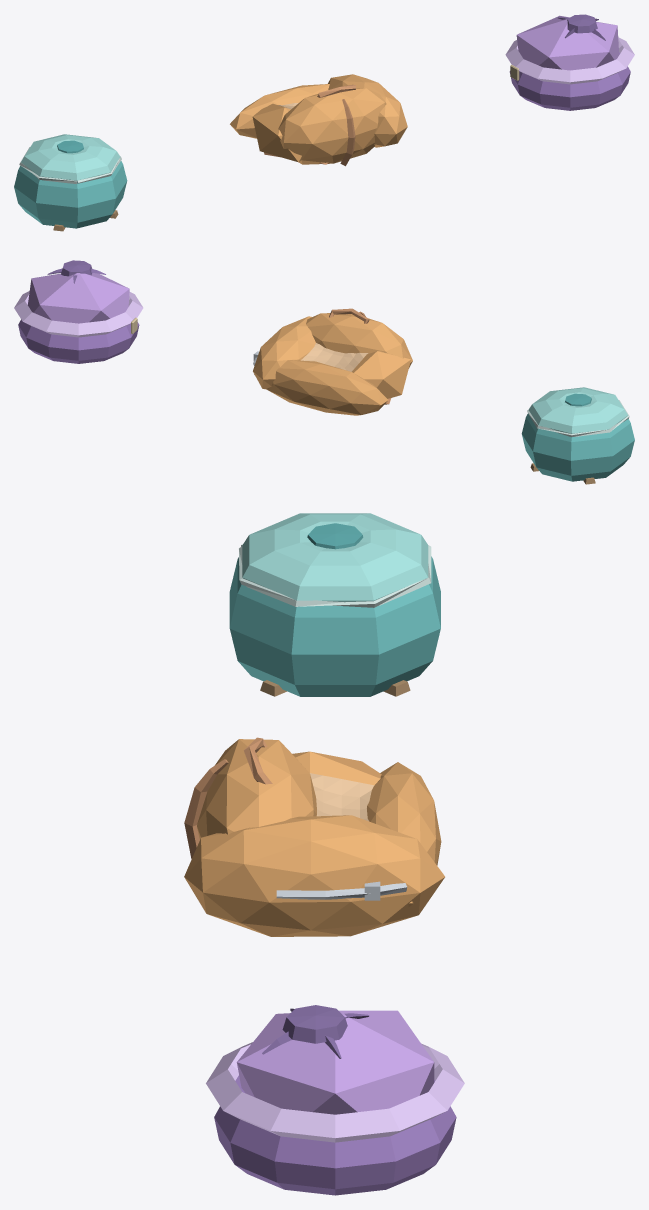
The model's file is BeanBag.fbx.
The picture shows the model from 3 angles, top to bottom: view 1: azimuth 30°, elevation 25°; view 2: azimuth 150°, elevation 25°; view 3: azimuth 270°, elevation 25°; orthographic projection. The views are drawn at different scales.
Parts seen in each view (by area): view 1: BeanBag.B_Body, BeanBag.C_Body, BeanBag.A_Body, BeanBag.C_Dome, BeanBag.A_Base, BeanBag.A_Welt, BeanBag.A_Tuft, BeanBag.B_Base, BeanBag.C_Piping; view 2: BeanBag.B_Body, BeanBag.C_Body, BeanBag.A_Body, BeanBag.C_Dome, BeanBag.A_Base, BeanBag.A_Welt, BeanBag.B_Seat, BeanBag.A_Tuft, BeanBag.C_Piping; view 3: BeanBag.B_Body, BeanBag.C_Body, BeanBag.A_Body, BeanBag.C_Dome, BeanBag.A_Base, BeanBag.A_Welt, BeanBag.A_Tuft, BeanBag.B_Seat, BeanBag.C_Piping, BeanBag.B_Zip, BeanBag.B_Base, BeanBag.C_Button.
Boxes of the visible parts, x1,y1,x2,y2 form: BeanBag.B_Body: (230,74,407,164); BeanBag.C_Body: (14,161,127,228); BeanBag.A_Body: (516,15,619,70); BeanBag.C_Dome: (21,134,120,181); BeanBag.A_Base: (509,52,630,110); BeanBag.A_Welt: (505,37,634,84); BeanBag.A_Tuft: (558,14,605,40); BeanBag.B_Base: (264,99,355,166); BeanBag.C_Piping: (19,147,121,183); BeanBag.B_Body: (253,313,412,415); BeanBag.C_Body: (521,413,634,481); BeanBag.A_Body: (28,273,129,323); BeanBag.C_Dome: (528,387,627,433); BeanBag.A_Base: (18,319,139,363); BeanBag.A_Welt: (14,291,143,337); BeanBag.B_Seat: (301,343,368,371); BeanBag.A_Tuft: (47,260,105,283); BeanBag.C_Piping: (527,400,629,437); BeanBag.B_Body: (184,739,444,936); BeanBag.C_Body: (229,556,440,696); BeanBag.A_Body: (236,1010,434,1114); BeanBag.C_Dome: (242,513,428,602); BeanBag.A_Base: (214,1075,456,1195); BeanBag.A_Welt: (206,1042,464,1142); BeanBag.A_Tuft: (262,1005,369,1058); BeanBag.B_Seat: (310,773,374,821); BeanBag.C_Piping: (239,544,431,607); BeanBag.B_Zip: (276,881,407,900); BeanBag.B_Base: (184,759,228,858); BeanBag.C_Button: (307,523,363,549).
Size of the model in its own units: 14.2 by 1.8 by 2.87.
